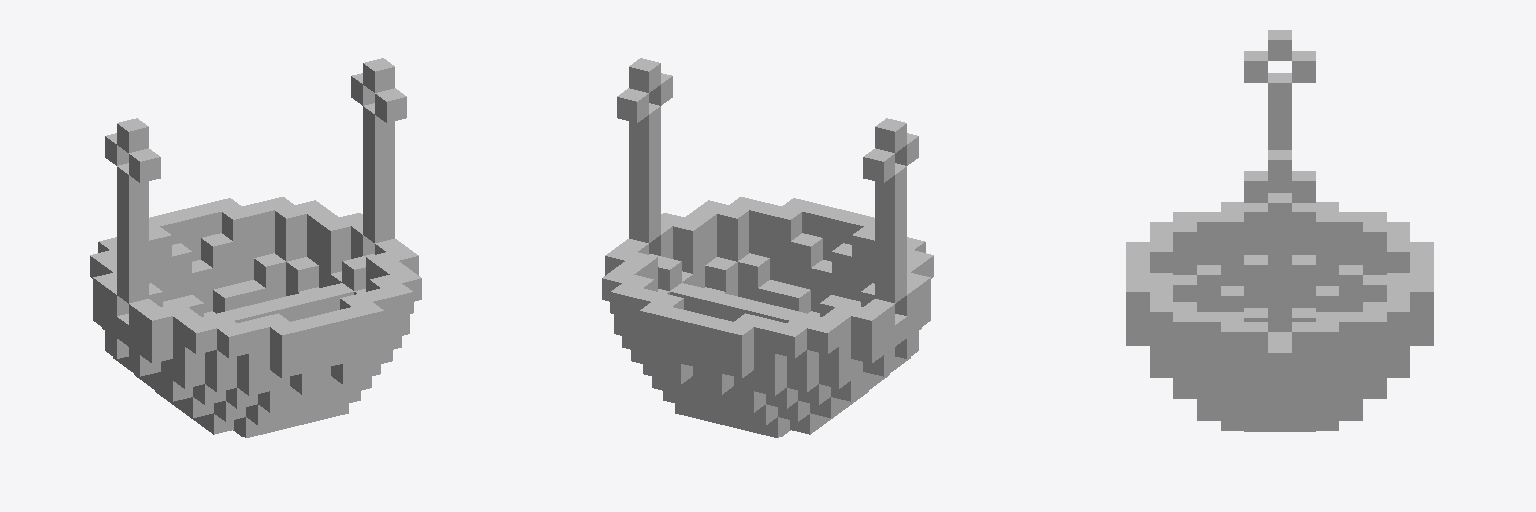
Rendered from carrinho2.obj.
3 views of the same model, side by side, from view 1: azimuth 30°, elevation 25°; view 2: azimuth 150°, elevation 25°; view 3: azimuth 270°, elevation 25° (orthographic).
Parts seen in each view (by area): view 1: Sphere.001_Sphere.006; view 2: Sphere.001_Sphere.006; view 3: Sphere.001_Sphere.006.
Boxes of the visible parts, x1,y1,x2,y2 form: Sphere.001_Sphere.006: [90, 58, 421, 437]; Sphere.001_Sphere.006: [602, 58, 933, 437]; Sphere.001_Sphere.006: [1126, 30, 1433, 431].
Bounding box in the file's own units: 3.57 × 4.11 × 3.57.